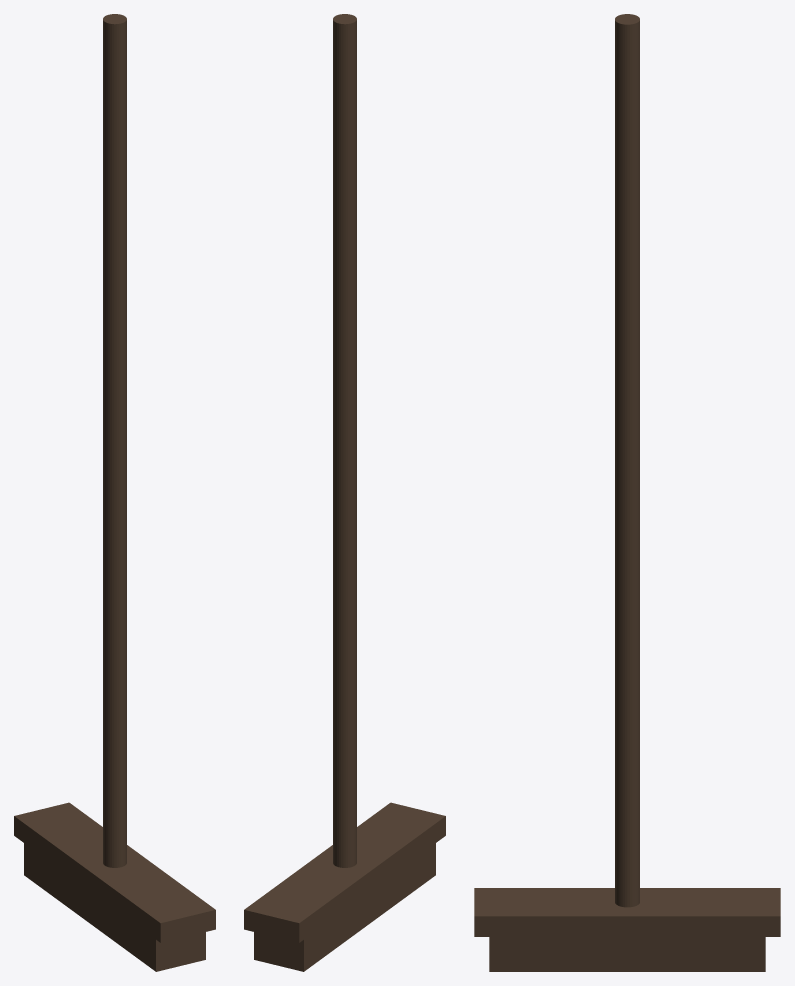
The model's file is broom.glb.
The picture shows the model from 3 angles, left to right: view 1: azimuth 30°, elevation 25°; view 2: azimuth 150°, elevation 25°; view 3: azimuth 270°, elevation 25°; orthographic projection. The views are drawn at different scales.
Visible parts, largest first — view 1: Cylinder, Cube; view 2: Cylinder, Cube; view 3: Cube, Cylinder.
Boxes of the visible parts, <box> form: Cylinder: <box>103,14,126,867</box>; Cube: <box>14,802,215,971</box>; Cylinder: <box>333,14,356,867</box>; Cube: <box>244,802,445,971</box>; Cube: <box>474,888,780,971</box>; Cylinder: <box>615,14,639,907</box>.
Size of the model in its own units: 0.7551 by 11.73 by 3.47.
